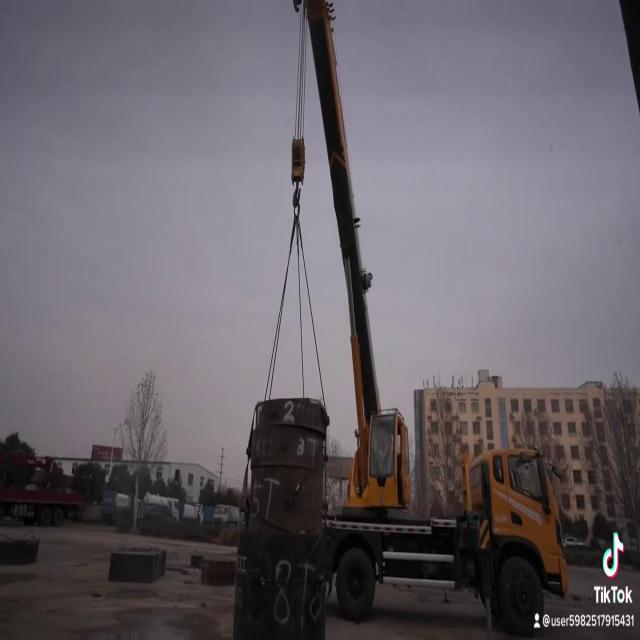crane: (288, 0, 570, 640)
